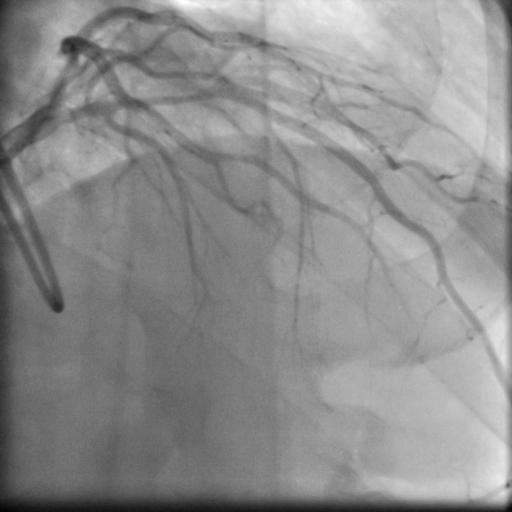Stenosis: (148, 87, 208, 105)
